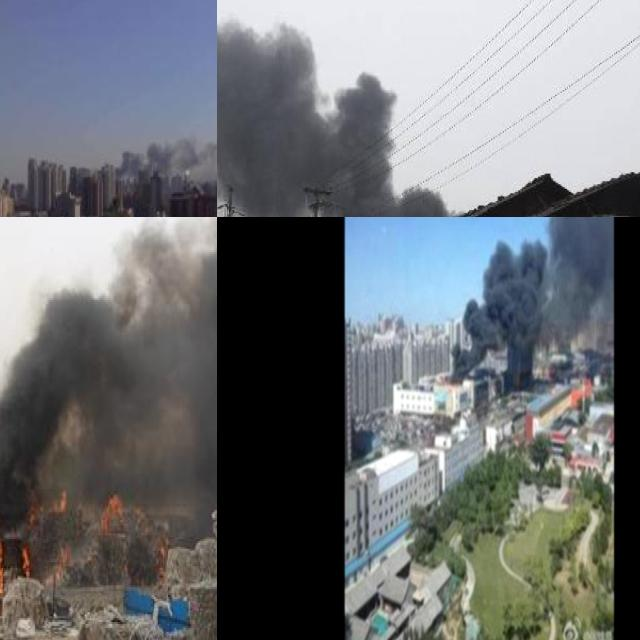fire: (46, 543, 74, 582), (98, 491, 120, 529), (18, 539, 32, 574), (52, 487, 67, 508)
smoke: (0, 217, 217, 556), (217, 0, 457, 217), (451, 217, 613, 380), (117, 11, 217, 177)
